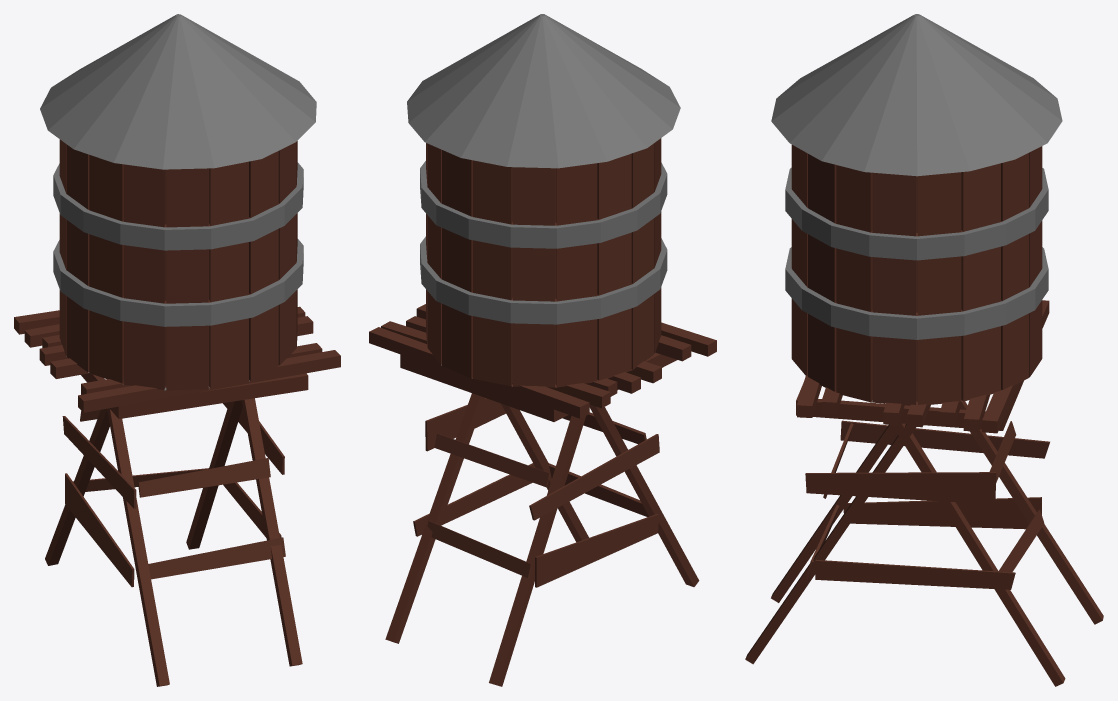
The model's file is water tank.fbx.
3 views of the same model, side by side, from view 1: azimuth 30°, elevation 25°; view 2: azimuth 150°, elevation 25°; view 3: azimuth 270°, elevation 25° (orthographic). The views are drawn at different scales.
Visible parts, largest first — view 1: Cylinder032, group3, Box506, Box504, Box515, Box503, Box521, Box520, Box505, Box518, Box507, Box519 (+8 smaller); view 2: Cylinder032, group3, Box507, Box505, Box518, Box508, Box506, Box519, Box503, Box523, Box517, Box504 (+9 smaller); view 3: Cylinder032, group3, Box516, Box518, Box517, Box505, Box519, Box504, Box507, Box503, Box506, Box508 (+4 smaller).
Boxes of the visible parts, x1,y1,x2,y2 form: Cylinder032: [40, 14, 316, 390]; group3: [59, 139, 297, 390]; Box506: [107, 408, 169, 686]; Box504: [242, 398, 302, 666]; Box515: [78, 350, 340, 412]; Box503: [81, 373, 308, 418]; Box521: [138, 458, 270, 497]; Box520: [148, 537, 285, 579]; Box505: [186, 400, 242, 549]; Box518: [65, 473, 134, 587]; Box507: [45, 408, 109, 565]; Box519: [62, 416, 136, 508]; Cylinder032: [407, 14, 680, 386]; group3: [426, 138, 661, 387]; Box507: [489, 416, 585, 686]; Box505: [385, 393, 484, 643]; Box518: [535, 514, 658, 587]; Box508: [369, 327, 589, 418]; Box506: [589, 404, 699, 586]; Box519: [529, 434, 659, 520]; Box503: [400, 352, 677, 421]; Box523: [434, 433, 549, 487]; Box517: [413, 463, 535, 536]; Box504: [501, 403, 588, 542]; Cylinder032: [771, 14, 1062, 402]; group3: [791, 145, 1042, 405]; Box516: [805, 472, 996, 504]; Box518: [843, 497, 1041, 529]; Box517: [815, 559, 1015, 589]; Box505: [892, 423, 1065, 686]; Box519: [840, 420, 1049, 458]; Box504: [745, 424, 916, 664]; Box507: [960, 401, 1103, 624]; Box503: [796, 380, 1023, 430]; Box506: [771, 405, 908, 602]; Box508: [982, 300, 1049, 433].
Size of the model in its own units: 465 by 986 by 511.
